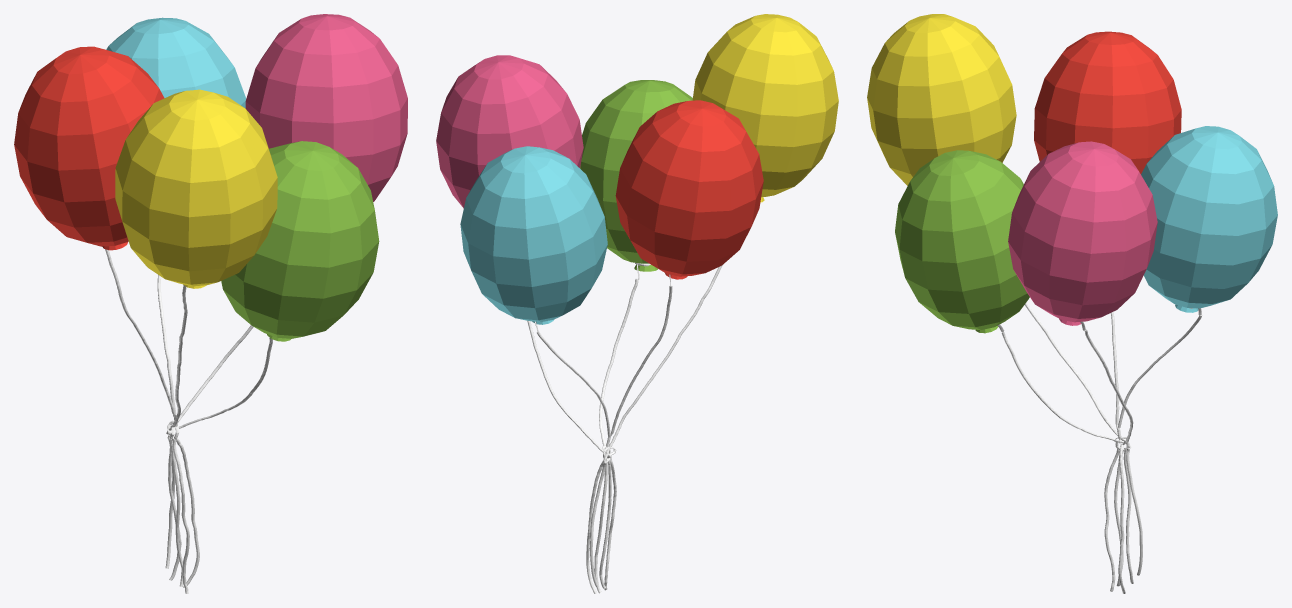
The model's file is balloon_blocks.fbx.
3 renders of one model, left to right at view 1: azimuth 30°, elevation 25°; view 2: azimuth 150°, elevation 25°; view 3: azimuth 270°, elevation 25°, orthographic. The views are drawn at different scales.
Visible parts, largest first — view 1: mesh_937412317, mesh_998948878, mesh_210495034, mesh_1093366644, mesh_96097516, group_1754021478, group_1183560749, group_1528678164, group_179702927, group_1769143226, group_358046811; view 2: mesh_210495034, mesh_96097516, mesh_937412317, mesh_1093366644, mesh_998948878, group_179702927, group_2049239786, group_1754021478; view 3: mesh_1093366644, mesh_96097516, mesh_937412317, mesh_998948878, mesh_210495034, group_1528678164, group_179702927.
Part boxes in pixels (x1,y1,x2,y2): mesh_937412317: (115, 89, 277, 286); mesh_998948878: (221, 141, 379, 338); mesh_210495034: (14, 46, 164, 246); mesh_1093366644: (245, 14, 407, 201); mesh_96097516: (106, 17, 246, 108); group_1754021478: (105, 249, 177, 426); group_1183560749: (172, 439, 189, 593); group_1528678164: (170, 435, 199, 587); group_179702927: (166, 285, 187, 434); group_1769143226: (157, 275, 176, 417); group_358046811: (170, 439, 183, 586); mesh_210495034: (615, 100, 763, 276); mesh_96097516: (460, 146, 607, 321); mesh_937412317: (692, 14, 838, 196); mesh_1093366644: (436, 55, 583, 208); mesh_998948878: (580, 80, 692, 263); group_179702927: (603, 265, 722, 460); group_2049239786: (599, 278, 638, 447); group_1754021478: (606, 285, 672, 446); mesh_1093366644: (1008, 141, 1157, 322); mesh_96097516: (1141, 126, 1277, 308); mesh_937412317: (867, 14, 1016, 185); mesh_998948878: (895, 150, 1029, 329); mesh_210495034: (1034, 31, 1181, 173); group_1528678164: (1118, 444, 1125, 593); group_179702927: (1024, 302, 1131, 447).
Size of the model in its own units: 122 by 191 by 133.
